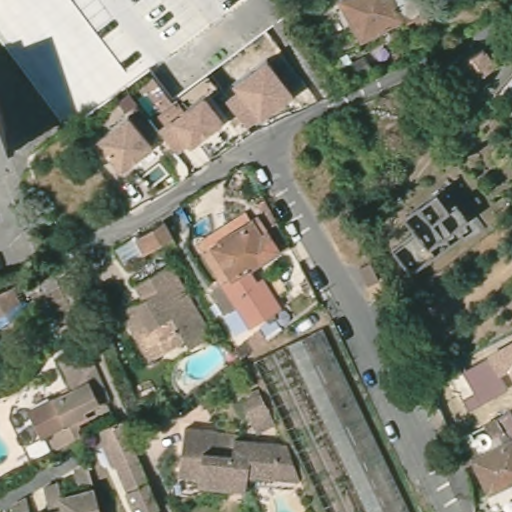pool: (176, 346, 227, 380), (135, 165, 168, 190), (1, 426, 12, 468)
